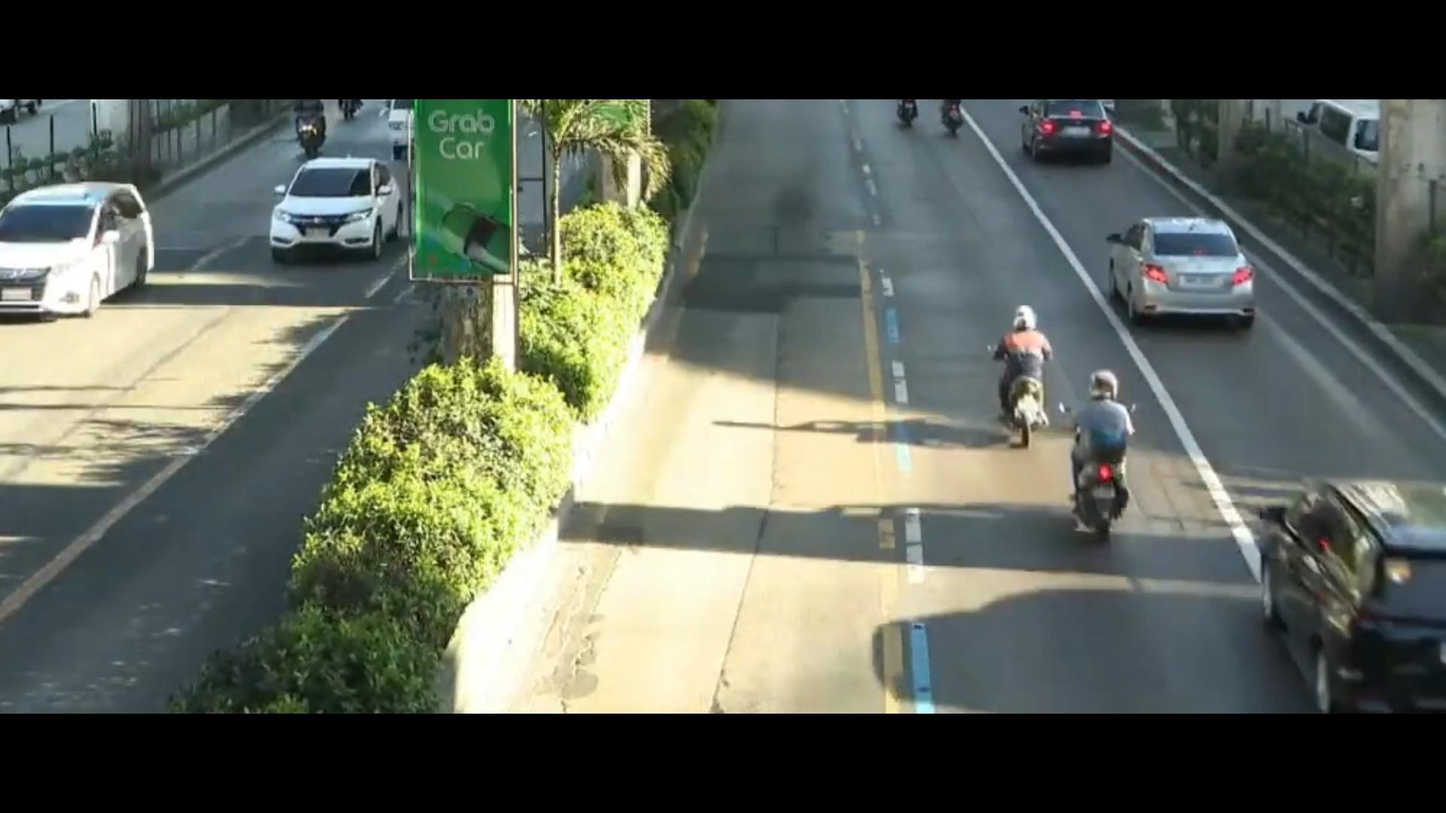Motorcycle: (1045, 369, 1166, 557), (966, 288, 1079, 458), (292, 96, 339, 149)
SUV: (1230, 443, 1446, 712), (0, 175, 191, 334)
Sedan: (1094, 181, 1284, 352), (259, 155, 411, 277), (1027, 104, 1131, 171)
